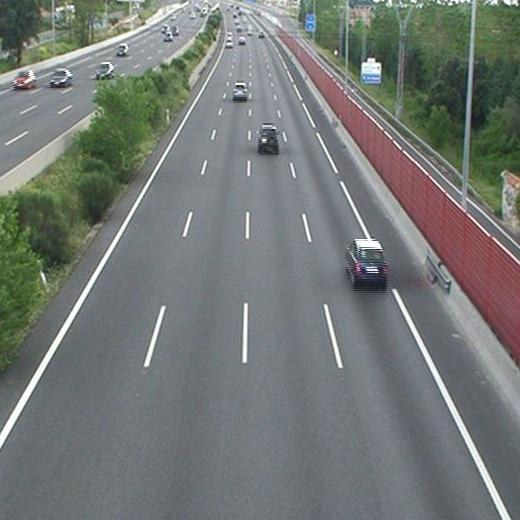car: (347, 240, 388, 285), (258, 125, 278, 150), (233, 83, 248, 99), (237, 36, 246, 45)
